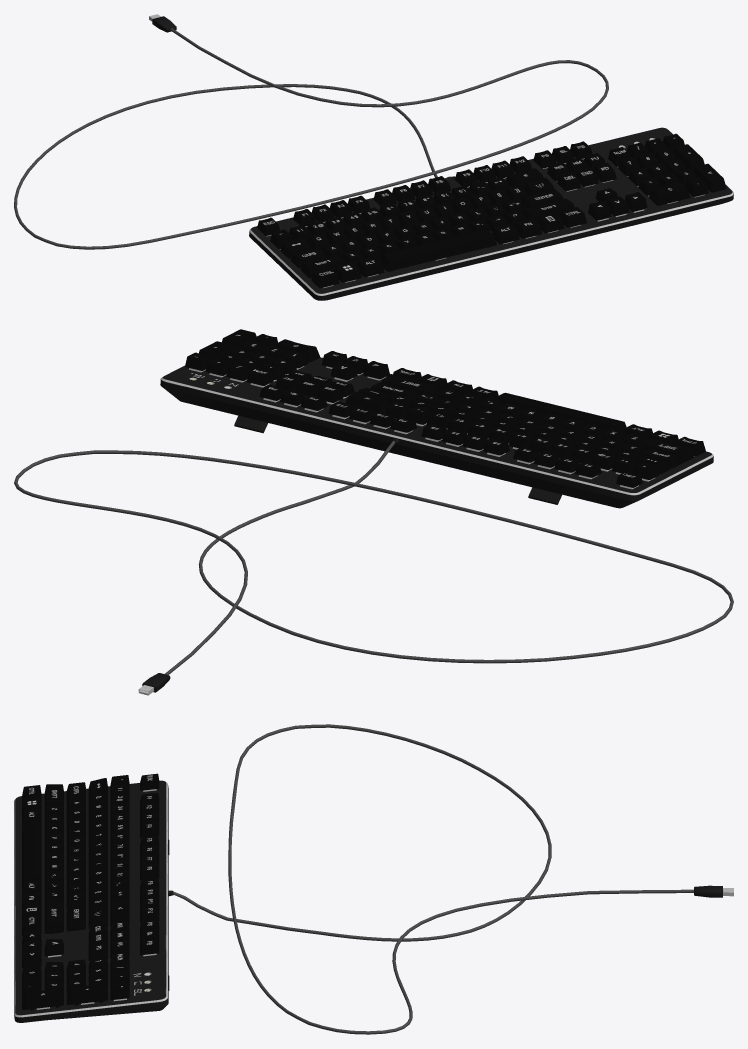
The model's file is keyboard.glb.
3 views of the same model, one above another, from view 1: azimuth 30°, elevation 25°; view 2: azimuth 150°, elevation 25°; view 3: azimuth 270°, elevation 25° (orthographic). The views are drawn at different scales.
Parts seen in each view (by area): view 1: keyboard_Key_0, keyboard_Keyboard_0; view 2: keyboard_Key_0, keyboard_Keyboard_0; view 3: keyboard_Key_0, keyboard_Keyboard_0.
Boxes of the visible parts, <box> form: keyboard_Key_0: <box>257,133,726,288</box>; keyboard_Keyboard_0: <box>14,14,733,300</box>; keyboard_Key_0: <box>185,329,705,487</box>; keyboard_Keyboard_0: <box>14,357,733,695</box>; keyboard_Key_0: <box>22,773,159,1010</box>; keyboard_Keyboard_0: <box>14,724,733,1034</box>.
Bounding box in the file's own units: 57.22 × 3.14 × 55.99.
Materials: 2 (2 with a texture image).
